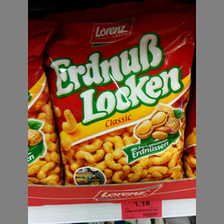chips: (45, 21, 194, 184)
